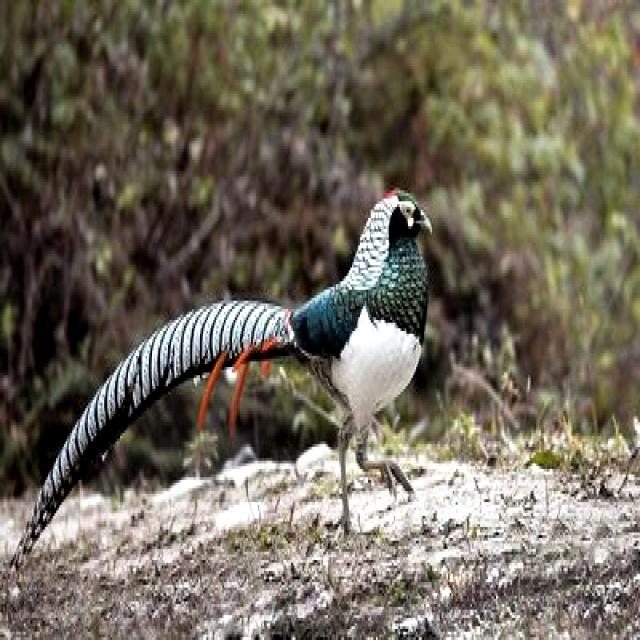Chrysolophus amherstiae: (21, 301, 286, 549)
